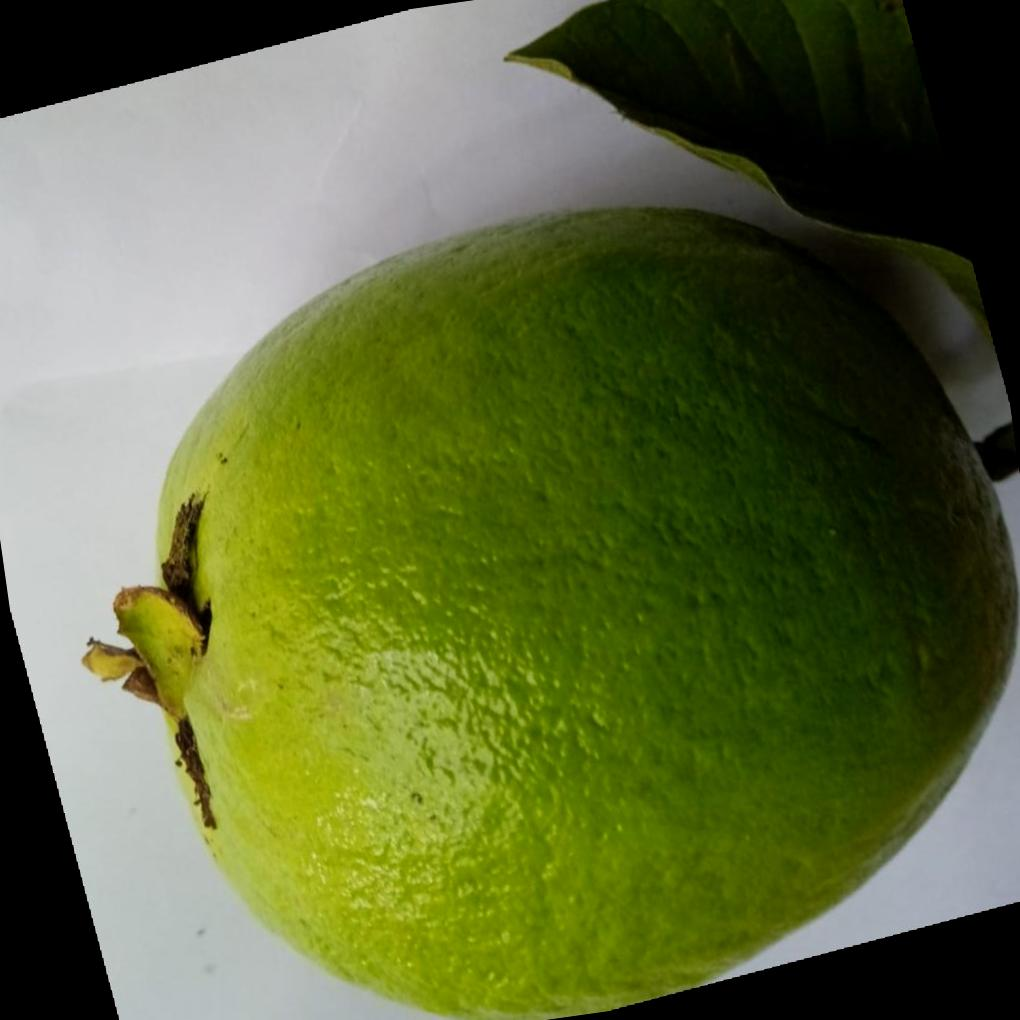FreshGuava: (80, 204, 1019, 1020)
